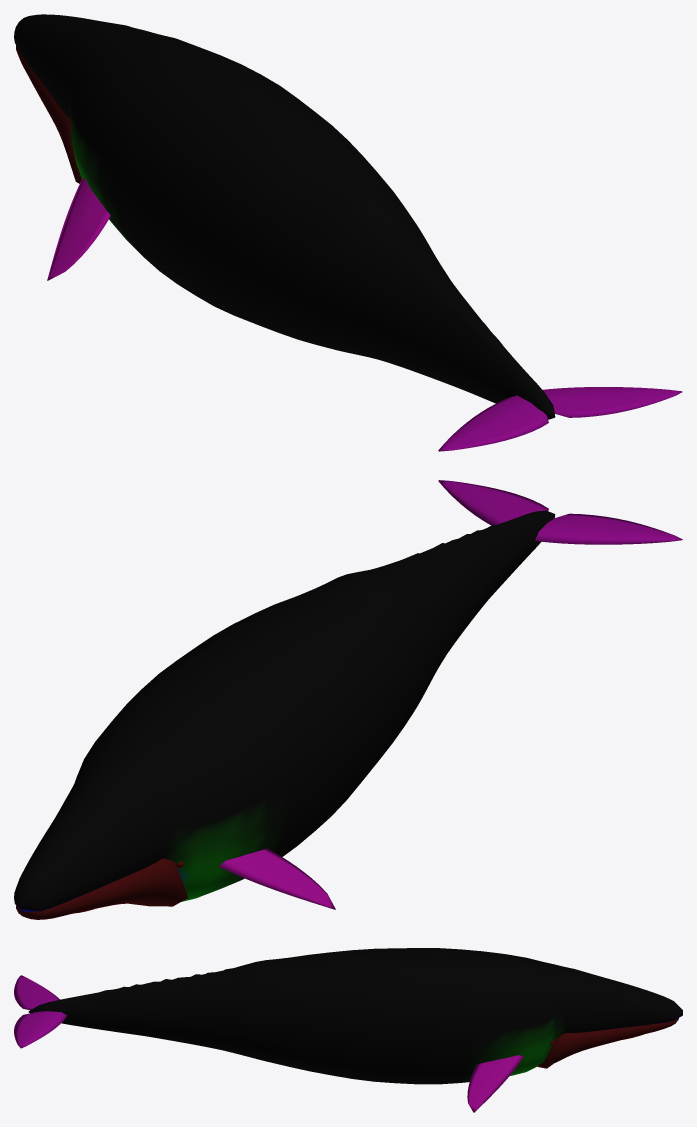
File: gray_whale_lo.glb
3 views of the same model, one above another, from view 1: azimuth 30°, elevation 25°; view 2: azimuth 150°, elevation 25°; view 3: azimuth 270°, elevation 25° (orthographic). The views are drawn at different scales.
Visible parts, largest first — view 1: gray_whale_lo; view 2: gray_whale_lo; view 3: gray_whale_lo.
Part boxes in pixels (box(x1,y1,x2,y2)): gray_whale_lo: box(14, 14, 682, 451); gray_whale_lo: box(14, 480, 682, 919); gray_whale_lo: box(14, 948, 682, 1112).
Bounding box in the file's own units: 4 × 2.66 × 13.09.
